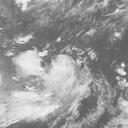cyclone: (44, 54, 89, 108)
